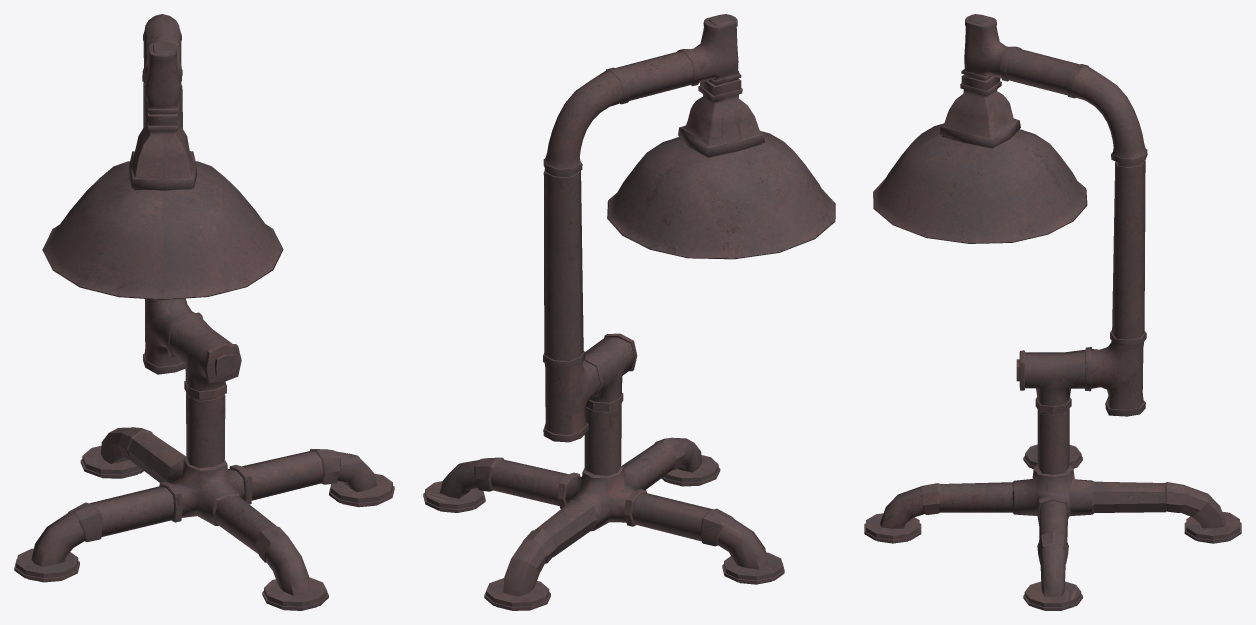
File: ai_lamp.fbx
The picture shows the model from 3 angles, left to right: view 1: azimuth 30°, elevation 25°; view 2: azimuth 150°, elevation 25°; view 3: azimuth 270°, elevation 25°; orthographic projection. The views are drawn at different scales.
Visible parts, largest first — view 1: polySurface5; view 2: polySurface5; view 3: polySurface5.
Boxes of the visible parts, left/top/right/bottom form: polySurface5: left=14, top=14, right=394, bottom=610; polySurface5: left=423, top=14, right=835, bottom=610; polySurface5: left=864, top=14, right=1241, bottom=610.
Size of the model in its own units: 16.18 by 22.32 by 15.95.
2 materials, 1 textured.
